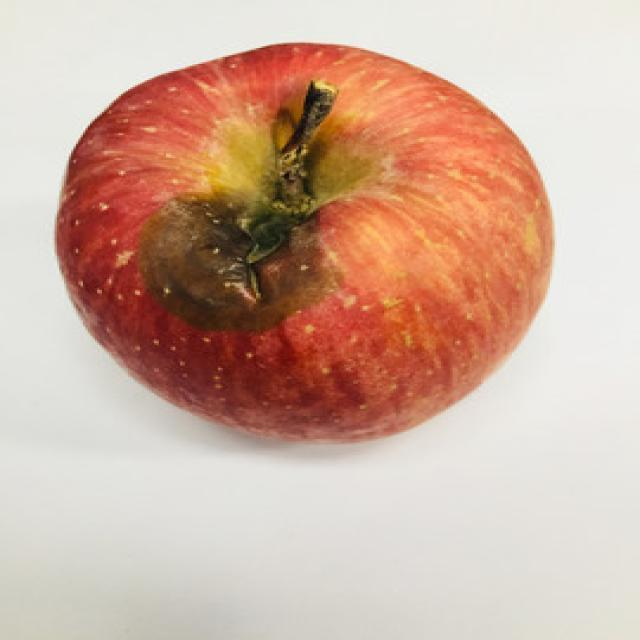apple: (53, 40, 554, 444)
